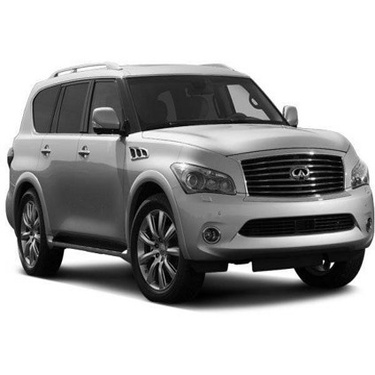car: (1, 57, 373, 310)
